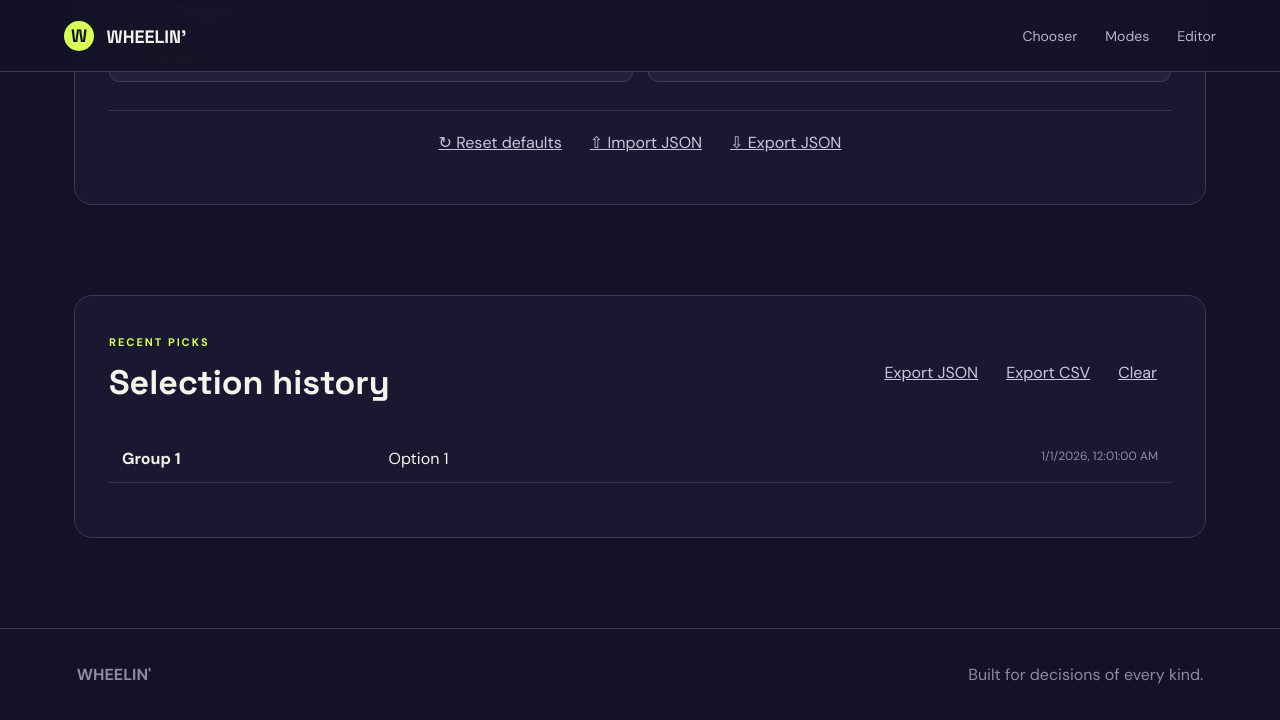
it: application interactions › clears displayed and persisted history together
(page scrolled)
Click the button "Clear". click: (1138, 372)
box: x1=1112 y1=361 x2=1163 y2=384
(page scrolled)
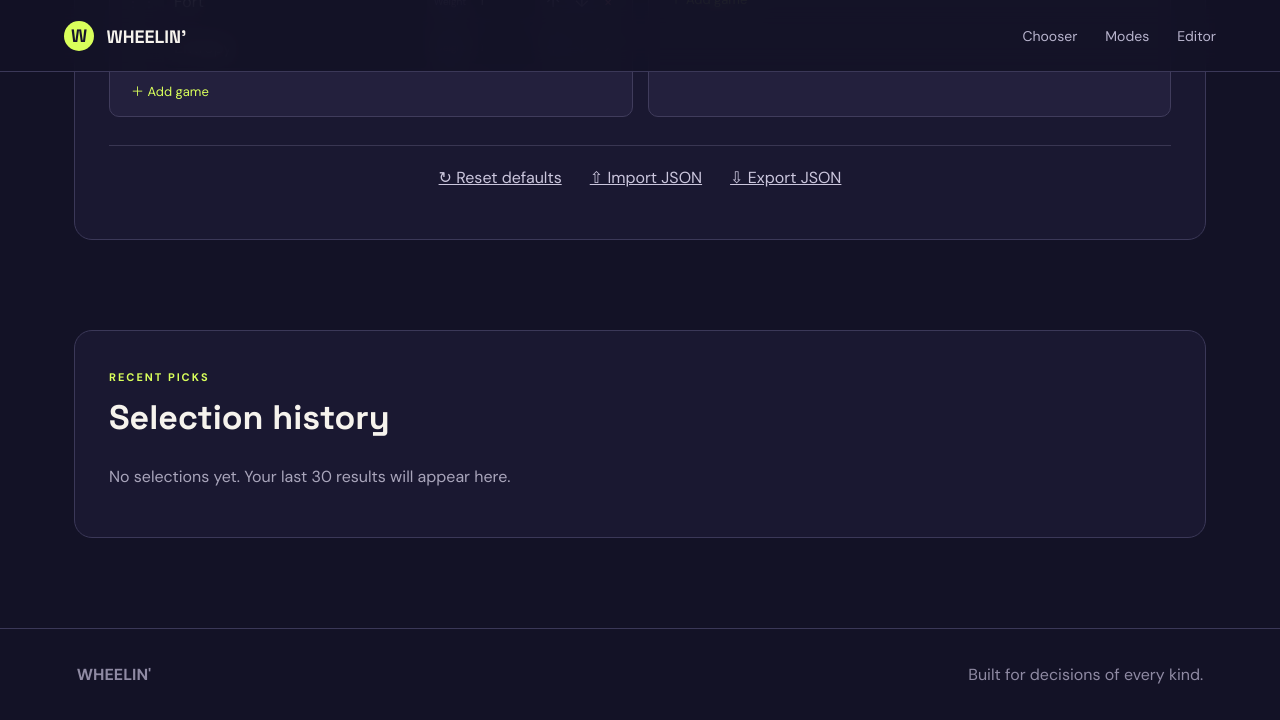
expect the text "No selections yet. Your last 30 results will appear here." is shown: met, box x1=109 y1=466 x2=510 y2=486
